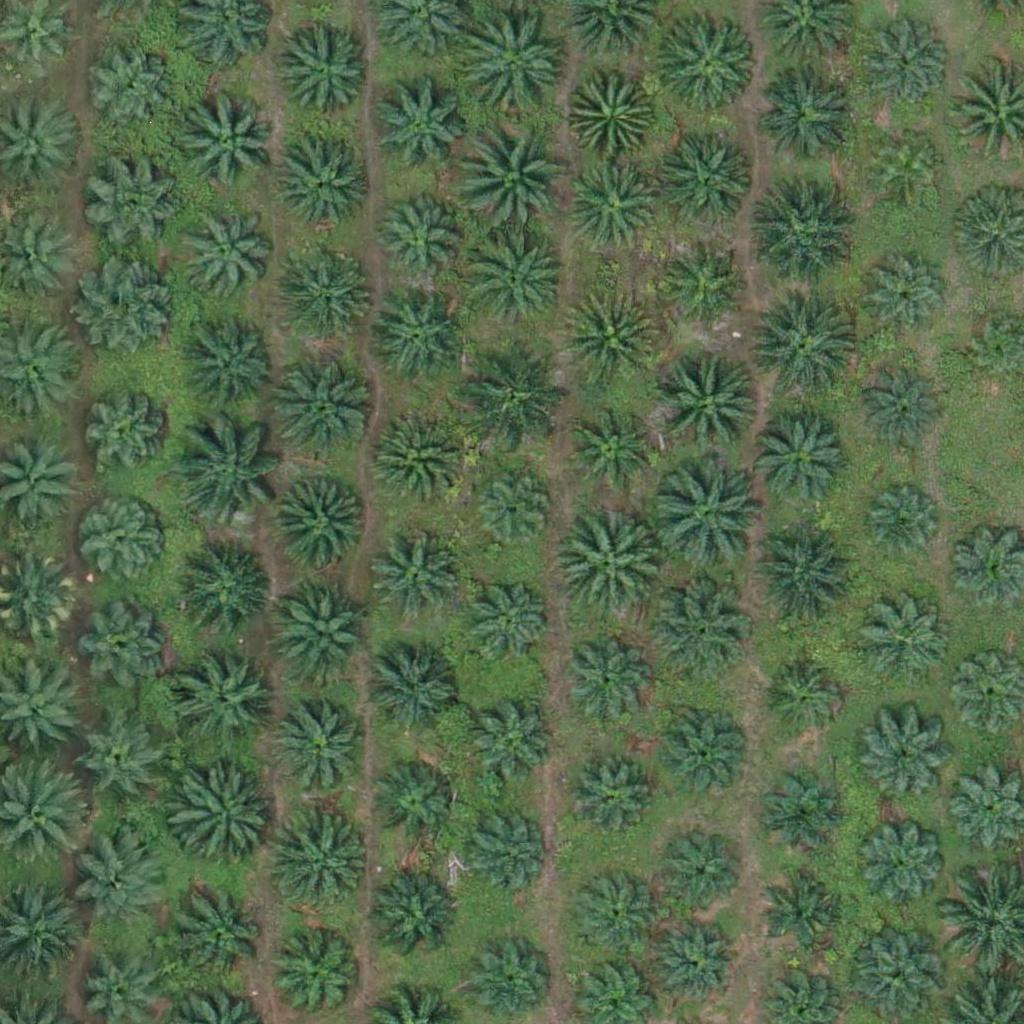Kelapa_Sawit: (741, 526, 854, 639), (650, 463, 763, 576), (176, 419, 289, 532), (461, 335, 574, 448), (461, 10, 574, 123), (656, 348, 768, 462), (550, 507, 662, 620), (460, 224, 572, 337), (455, 114, 567, 227), (742, 177, 854, 290), (743, 291, 855, 404), (750, 413, 850, 514), (647, 580, 747, 681), (364, 409, 464, 510), (366, 638, 466, 739), (362, 870, 462, 971), (272, 814, 372, 915), (176, 542, 276, 643), (172, 654, 272, 755), (172, 770, 272, 871), (82, 151, 182, 252), (80, 255, 180, 356), (183, 90, 283, 191), (176, 205, 276, 306), (180, 314, 280, 415), (274, 357, 374, 458), (273, 133, 373, 234), (366, 77, 466, 178), (369, 289, 469, 390), (559, 288, 659, 389), (658, 132, 758, 233), (657, 8, 757, 109), (757, 63, 857, 164), (271, 476, 371, 576), (272, 581, 372, 681), (174, 886, 274, 986), (75, 830, 175, 930), (281, 244, 381, 344), (276, 20, 376, 120), (858, 720, 946, 808), (858, 821, 946, 909), (472, 466, 560, 554), (461, 573, 549, 661), (465, 701, 553, 789), (458, 803, 546, 891), (560, 751, 648, 839), (658, 706, 746, 794), (759, 652, 847, 740), (374, 534, 462, 622), (87, 45, 175, 133), (570, 158, 658, 246), (566, 409, 654, 497), (664, 233, 752, 321), (857, 366, 945, 454), (864, 248, 952, 336), (571, 870, 658, 958), (562, 634, 649, 722), (656, 831, 743, 919), (657, 915, 744, 1003), (763, 862, 850, 950), (755, 765, 842, 853), (861, 597, 948, 685), (370, 756, 457, 844), (279, 700, 366, 788), (82, 394, 169, 482), (79, 503, 166, 591), (82, 602, 169, 690), (79, 719, 166, 807), (376, 191, 463, 279), (568, 66, 655, 154), (862, 15, 949, 103), (865, 487, 940, 563), (869, 129, 944, 204)
